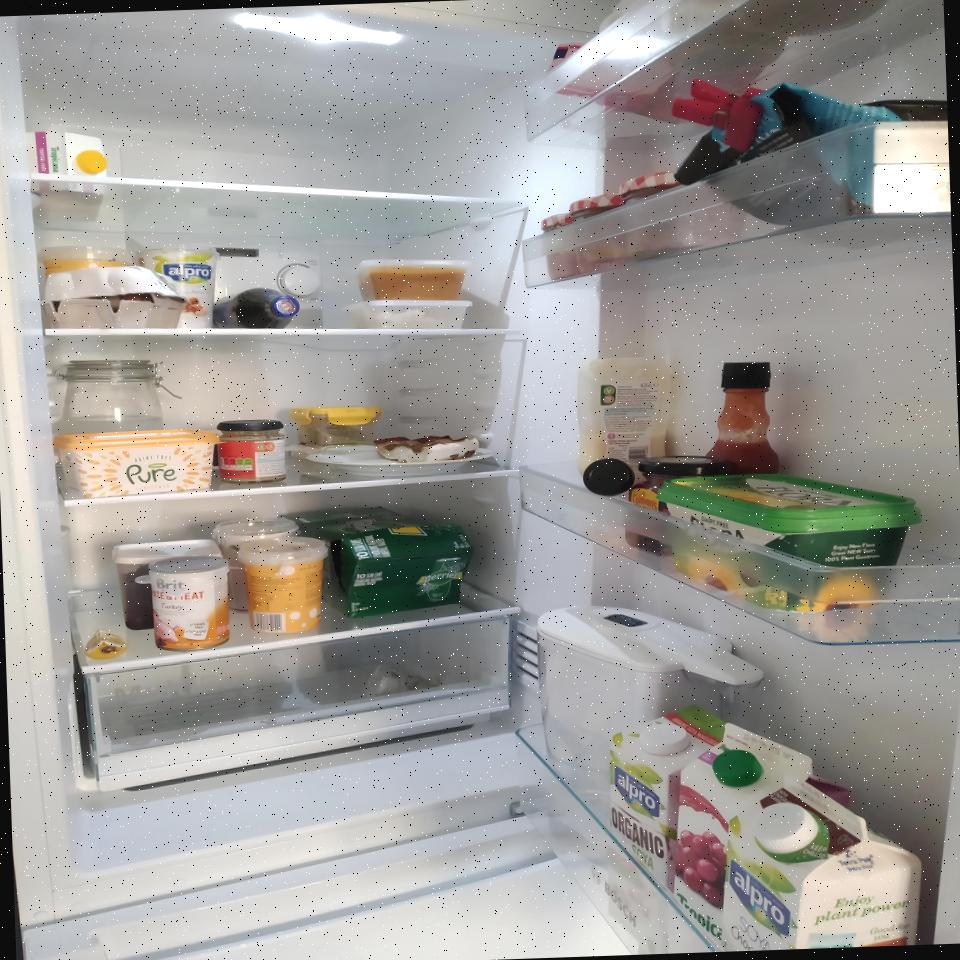Huevos: (41, 264, 188, 335)
